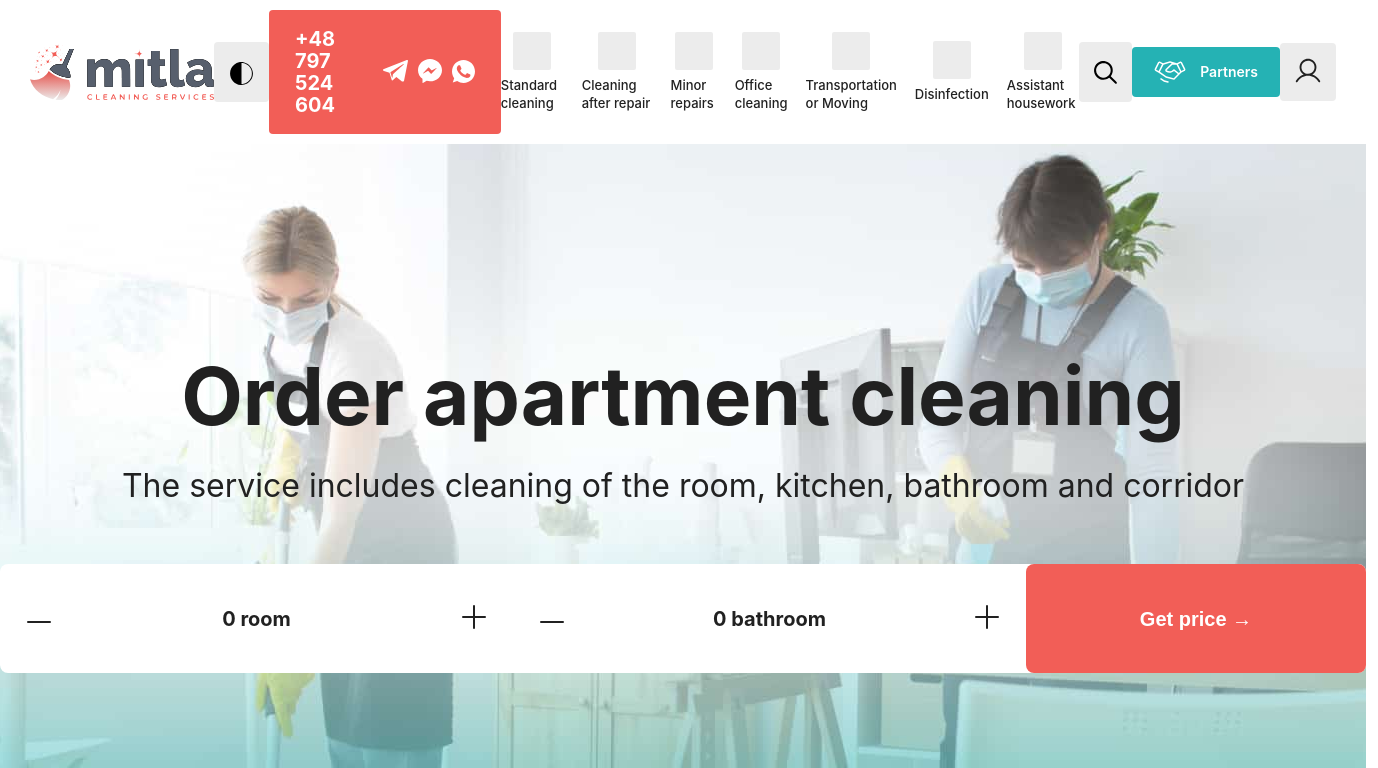
test page App › should router test work correctly
The width and height of the screenshot is (1378, 768).
What coordinates should you click on to do the following:
click the link with test id "search-btn-header"
I would click on:
 (1106, 72)
Its box is [1079, 42, 1132, 102].
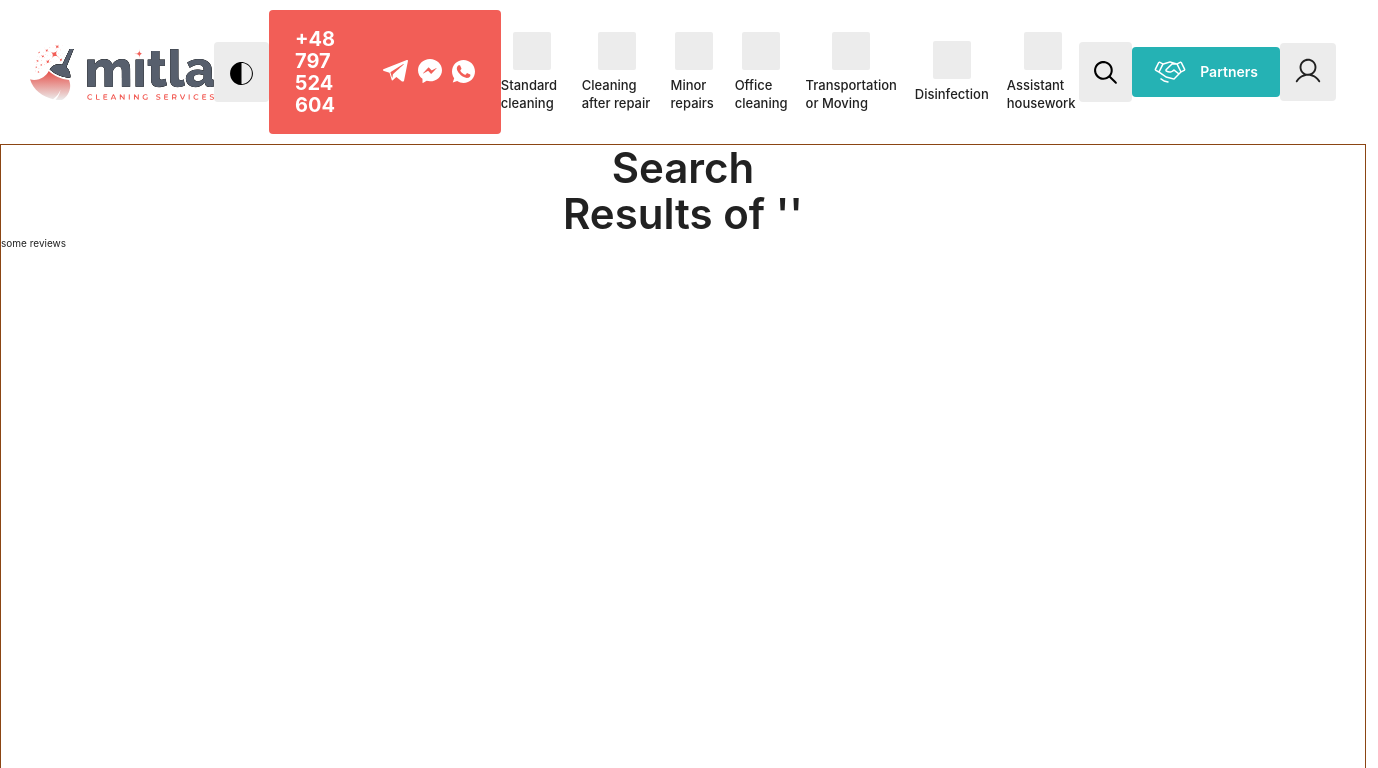
Result: the text "some reviews" is shown at [1, 237, 66, 249]
What coordinates should you click on to do the following:
click the link with test id "company-logo-header"
I would click on:
 (122, 72)
Its box is [30, 41, 214, 103].
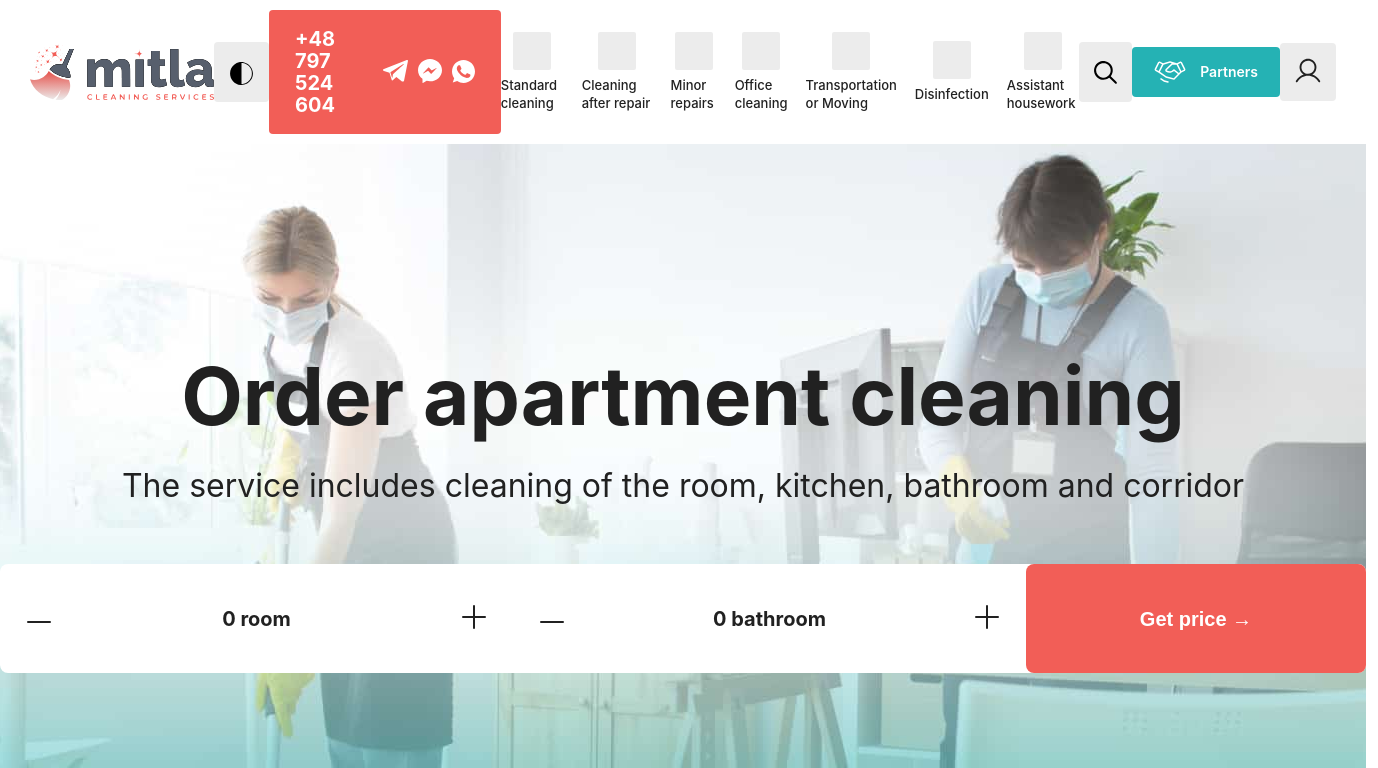
Result: the text "0 room" is shown at [222, 608, 291, 630]
